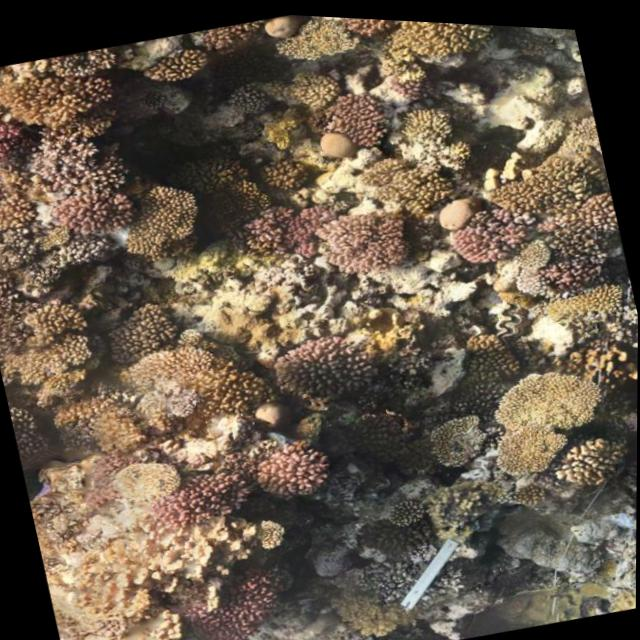Bleached Coral: (316, 445, 464, 618), (25, 116, 128, 204)
Healthy Coral: (218, 9, 640, 447), (0, 215, 343, 640), (460, 344, 638, 504)
